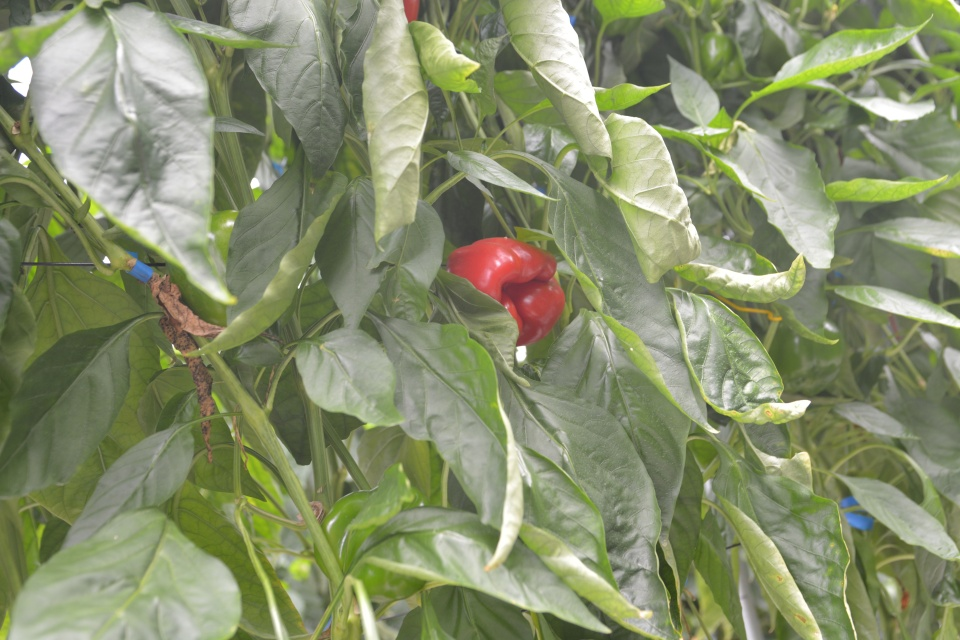fruit: (444, 234, 566, 348), (698, 31, 744, 88)
